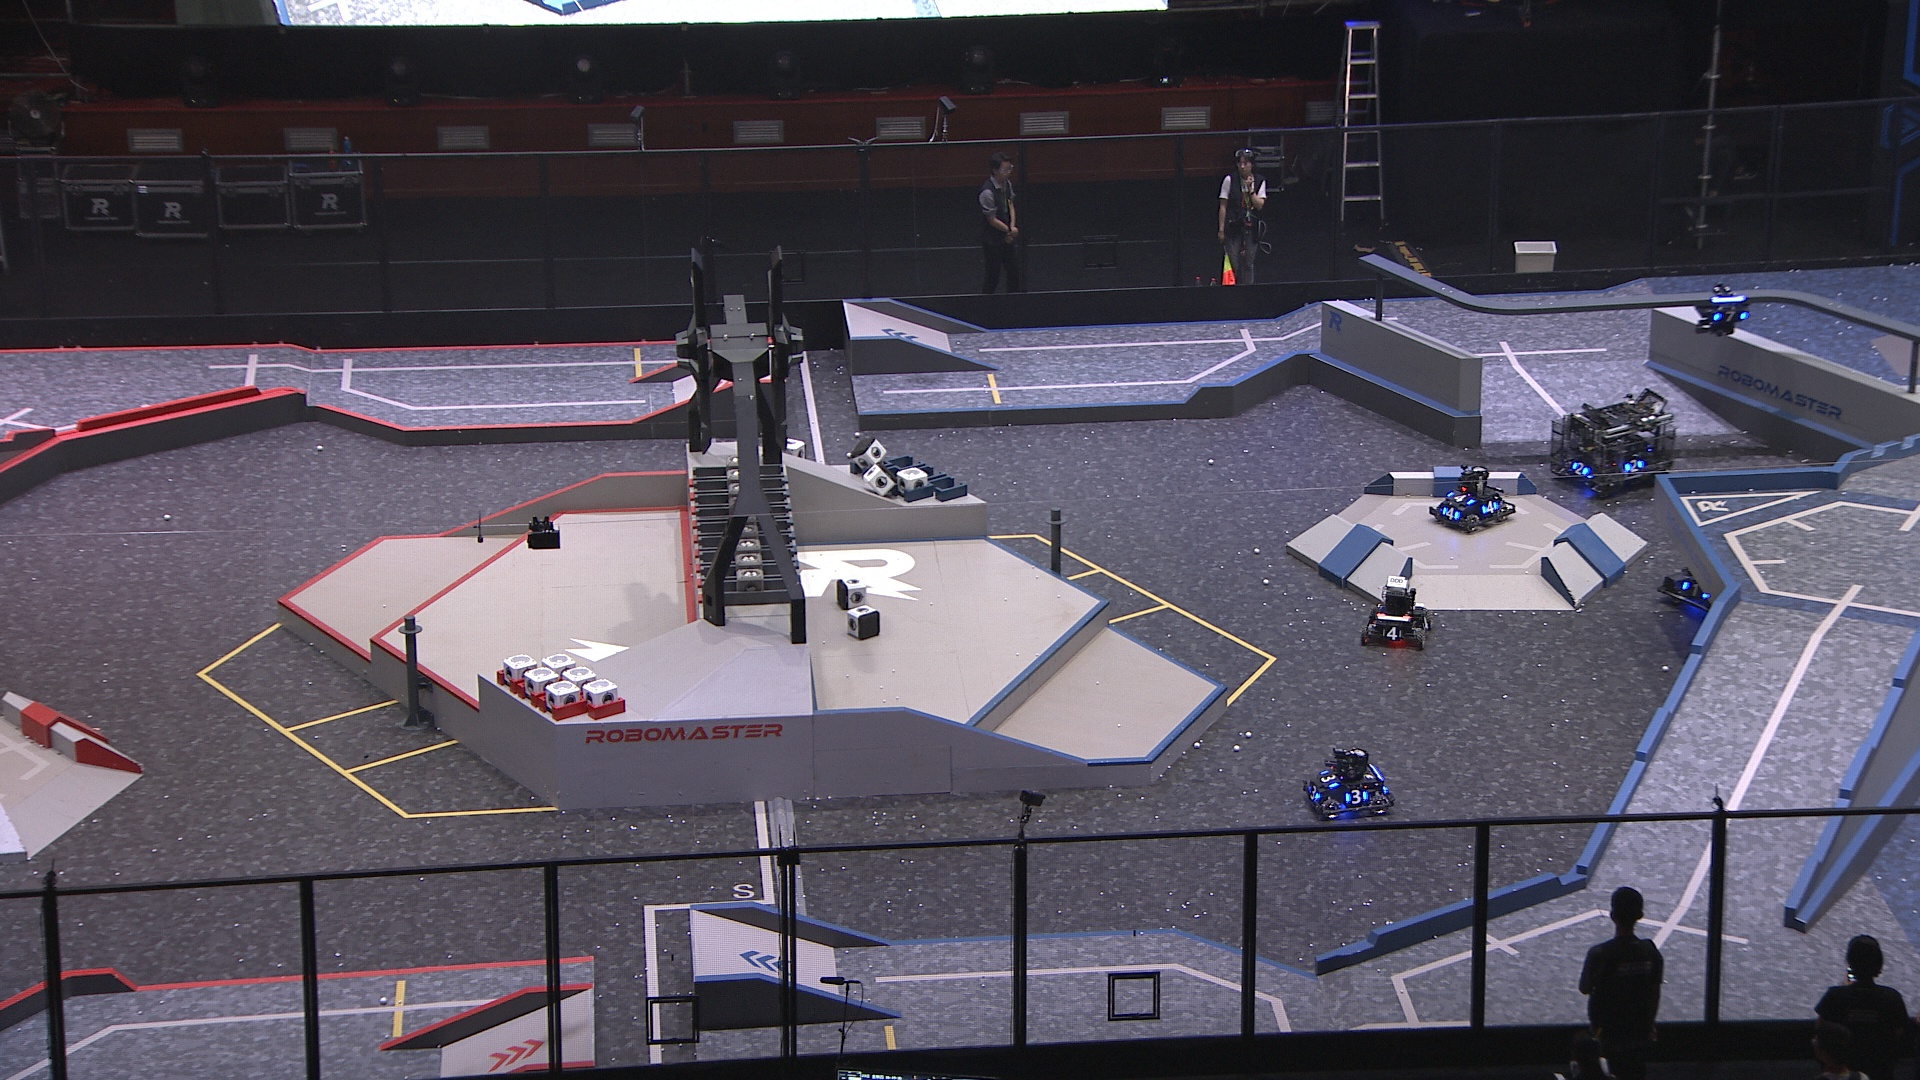armor: (1681, 578, 1708, 603), (1712, 309, 1746, 323), (1448, 491, 1476, 506), (1344, 789, 1367, 807), (1319, 767, 1337, 790), (1623, 458, 1646, 475), (1569, 460, 1588, 479), (1379, 626, 1400, 642), (1441, 506, 1458, 524), (1309, 782, 1321, 803), (1482, 500, 1499, 514), (1418, 615, 1432, 632)
car: (1551, 385, 1673, 495), (1664, 541, 1750, 629), (1302, 744, 1396, 820), (1428, 463, 1516, 533), (1358, 578, 1432, 651)
watcher: (1695, 278, 1754, 338)
